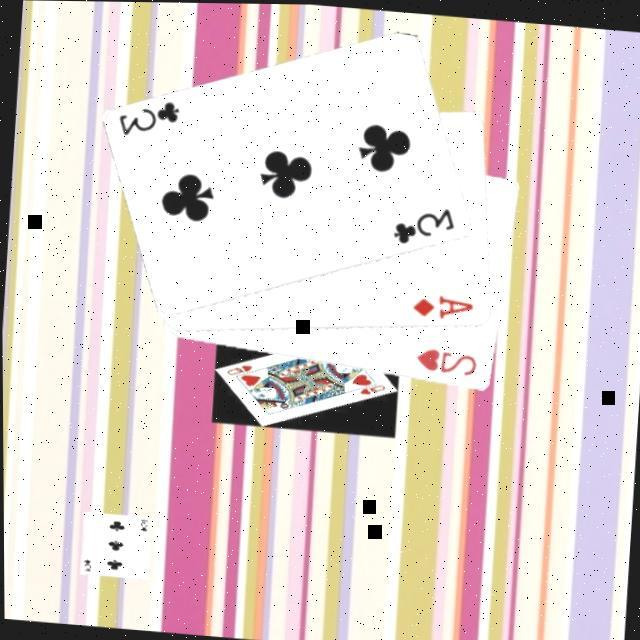2H: (409, 343, 478, 380)
3C: (386, 199, 456, 251), (111, 93, 181, 143)
AD: (406, 288, 474, 324)
